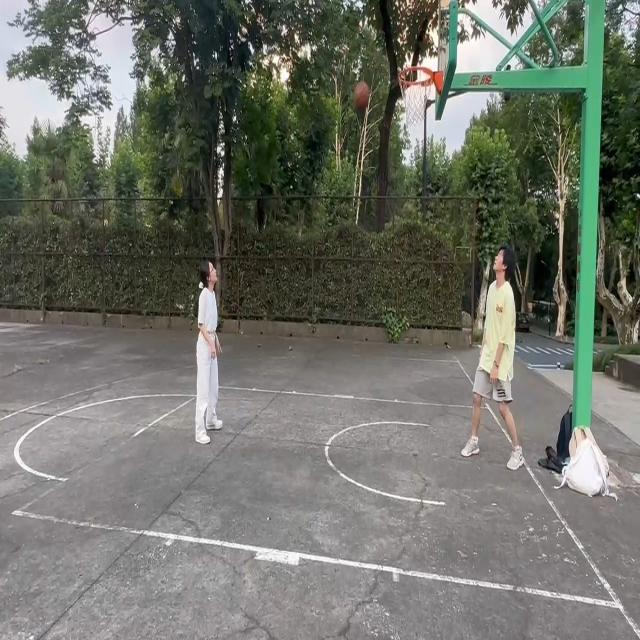basketball: (399, 62, 442, 126)
rim: (352, 80, 370, 112)
